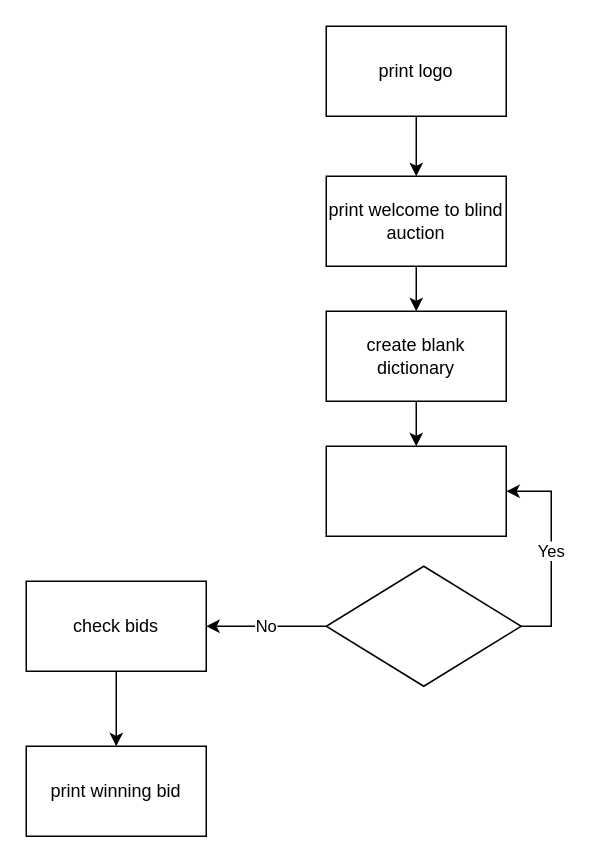
This 591x863 diagram has some shape labels left out. The centre of each missing label's shape, as x and y in pixels:
"another bidder?" goes at point (423, 625).
"input bidder name and amount" goes at point (415, 490).
